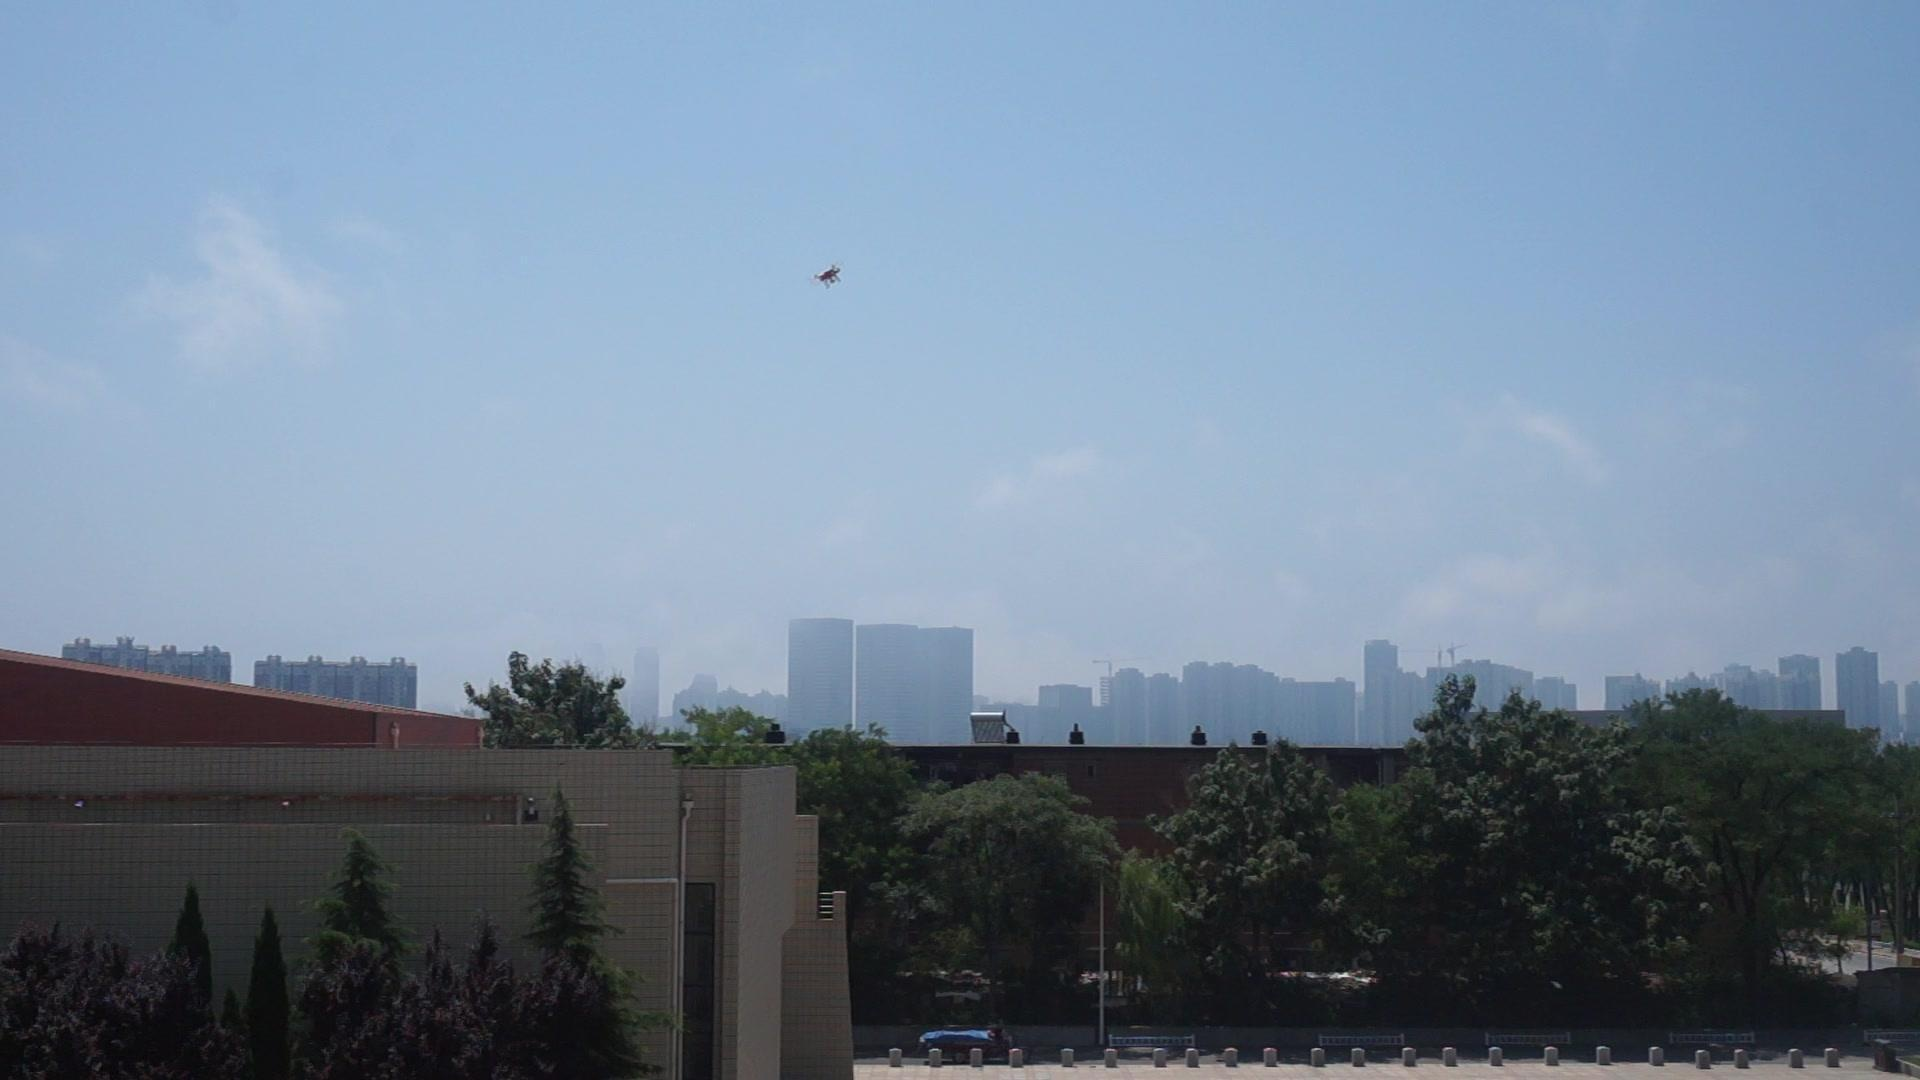UAV: (808, 262, 845, 290)
